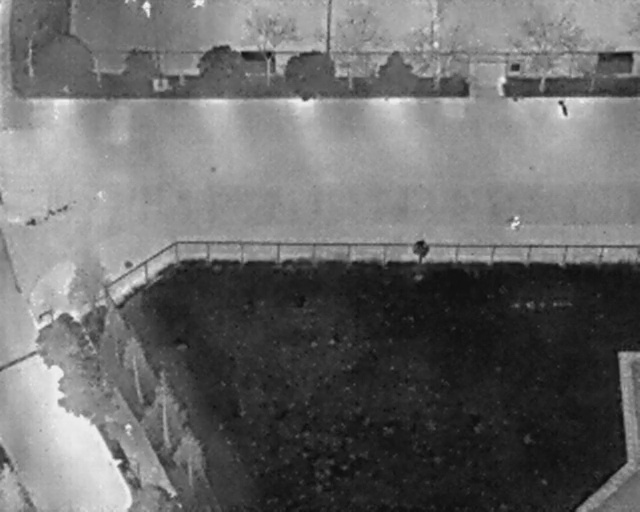Person: (507, 215, 521, 231), (141, 1, 152, 19), (192, 0, 204, 9)
